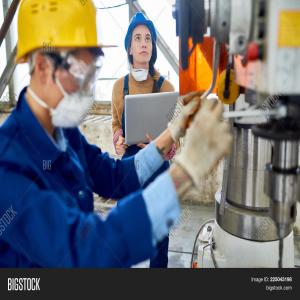blue: (125, 12, 158, 70)
yellow: (16, 1, 105, 131)
